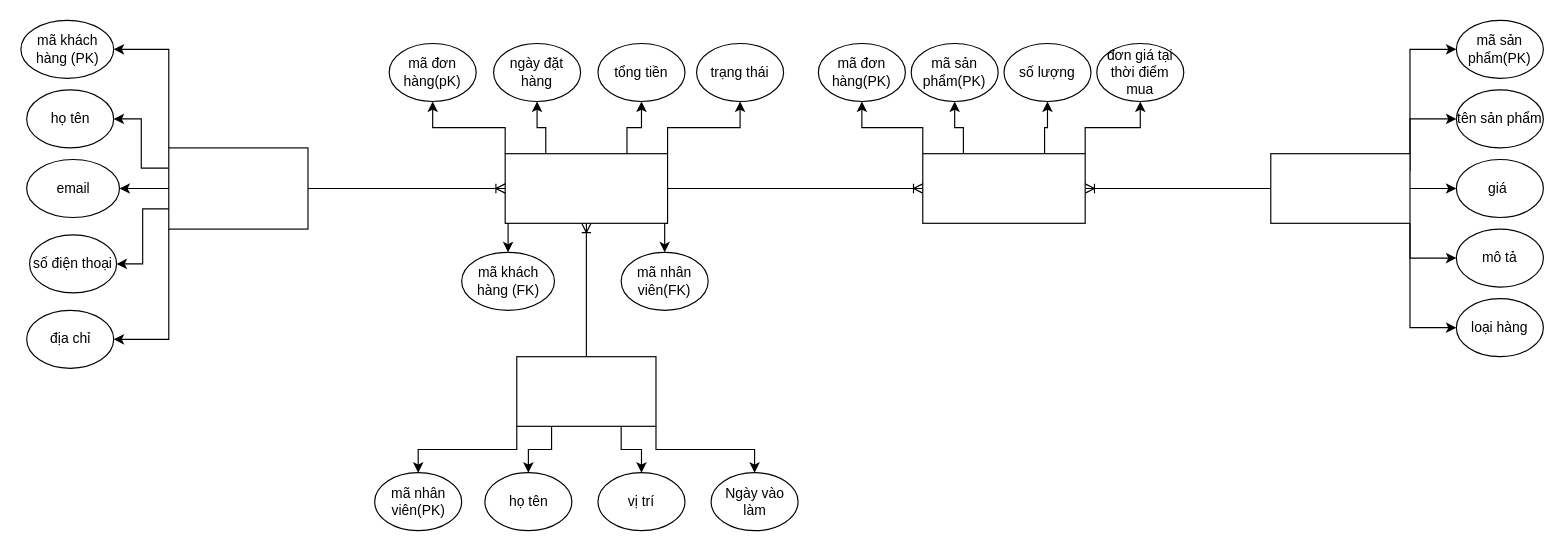
This 1564x551 diagram has some shape labels left out. The centre of each missing label's shape, as x and y in pixels:
Customer: [238,188]
Order: [586,188]
OrderDetail: [1003,188]
Product: [1340,188]
Staff: [586,391]
